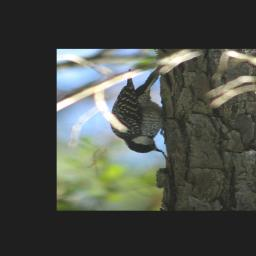Woodpecker: (109, 65, 166, 154)
